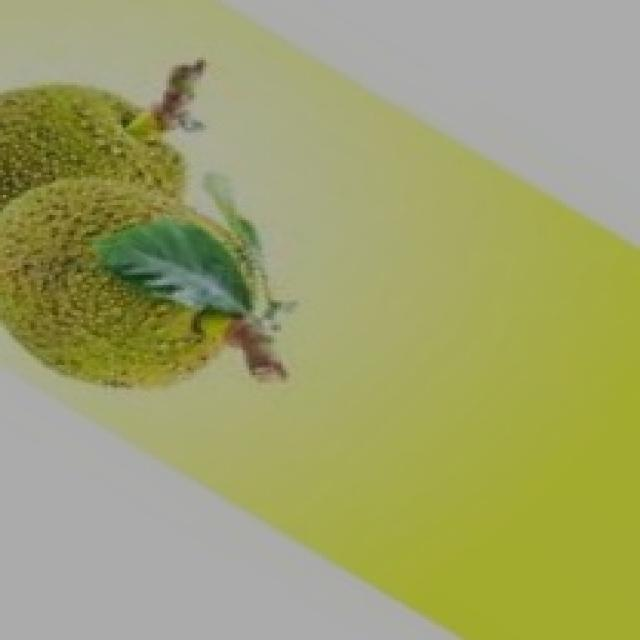Fruit: (0, 35, 302, 425)
